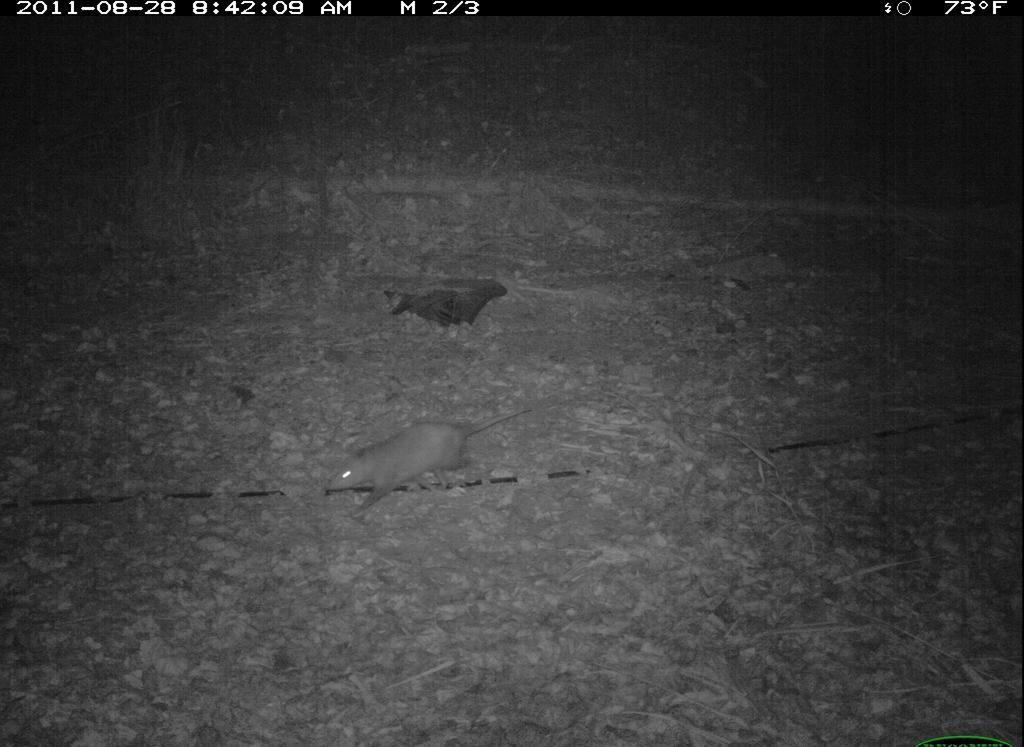opossum: (323, 397, 564, 519)
